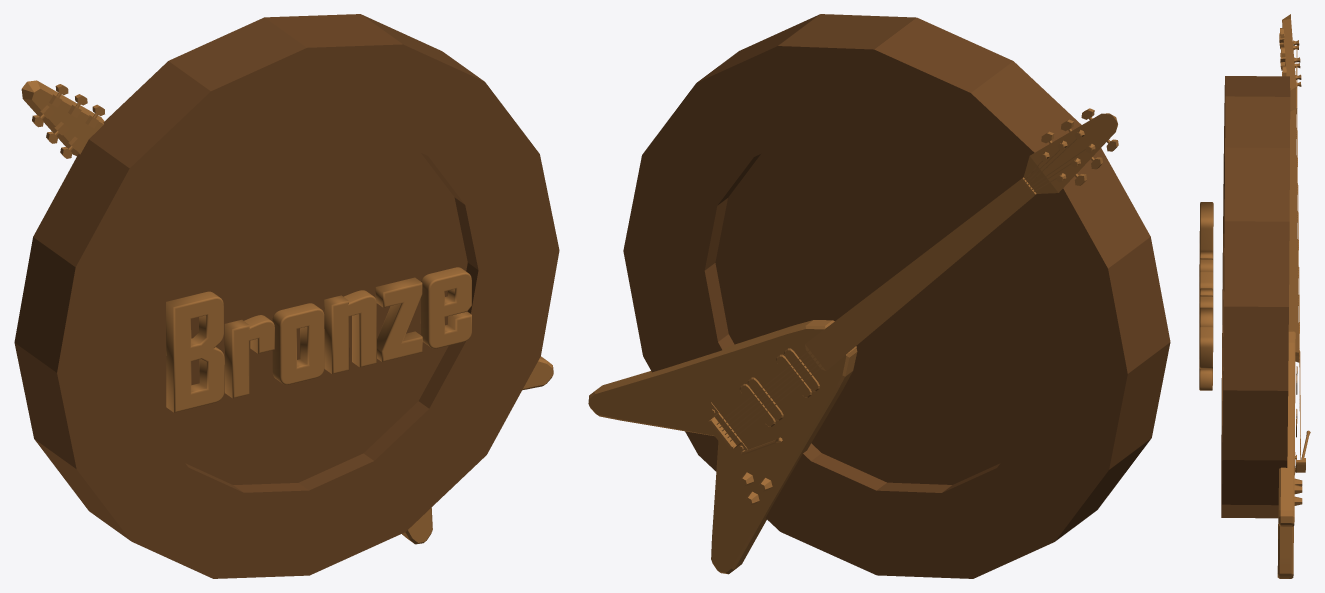
File: Bronze.glb
The picture shows the model from 3 angles, left to right: view 1: azimuth 30°, elevation 25°; view 2: azimuth 150°, elevation 25°; view 3: azimuth 270°, elevation 25°; orthographic projection. The views are drawn at different scales.
Visible parts, largest first — view 1: Coin, Bronze Text, Electric Guitar; view 2: Coin, Electric Guitar; view 3: Coin, Electric Guitar, Bronze Text.
Part boxes in pixels (x1,y1,x2,y2): Coin: [14, 14, 559, 578]; Bronze Text: [166, 267, 471, 412]; Electric Guitar: [21, 80, 553, 544]; Coin: [623, 14, 1170, 578]; Electric Guitar: [588, 108, 1118, 574]; Coin: [1221, 76, 1290, 518]; Electric Guitar: [1277, 14, 1310, 578]; Bronze Text: [1199, 202, 1213, 390].
Bounding box in the file's own units: 1.05 × 1.05 × 0.2484.
